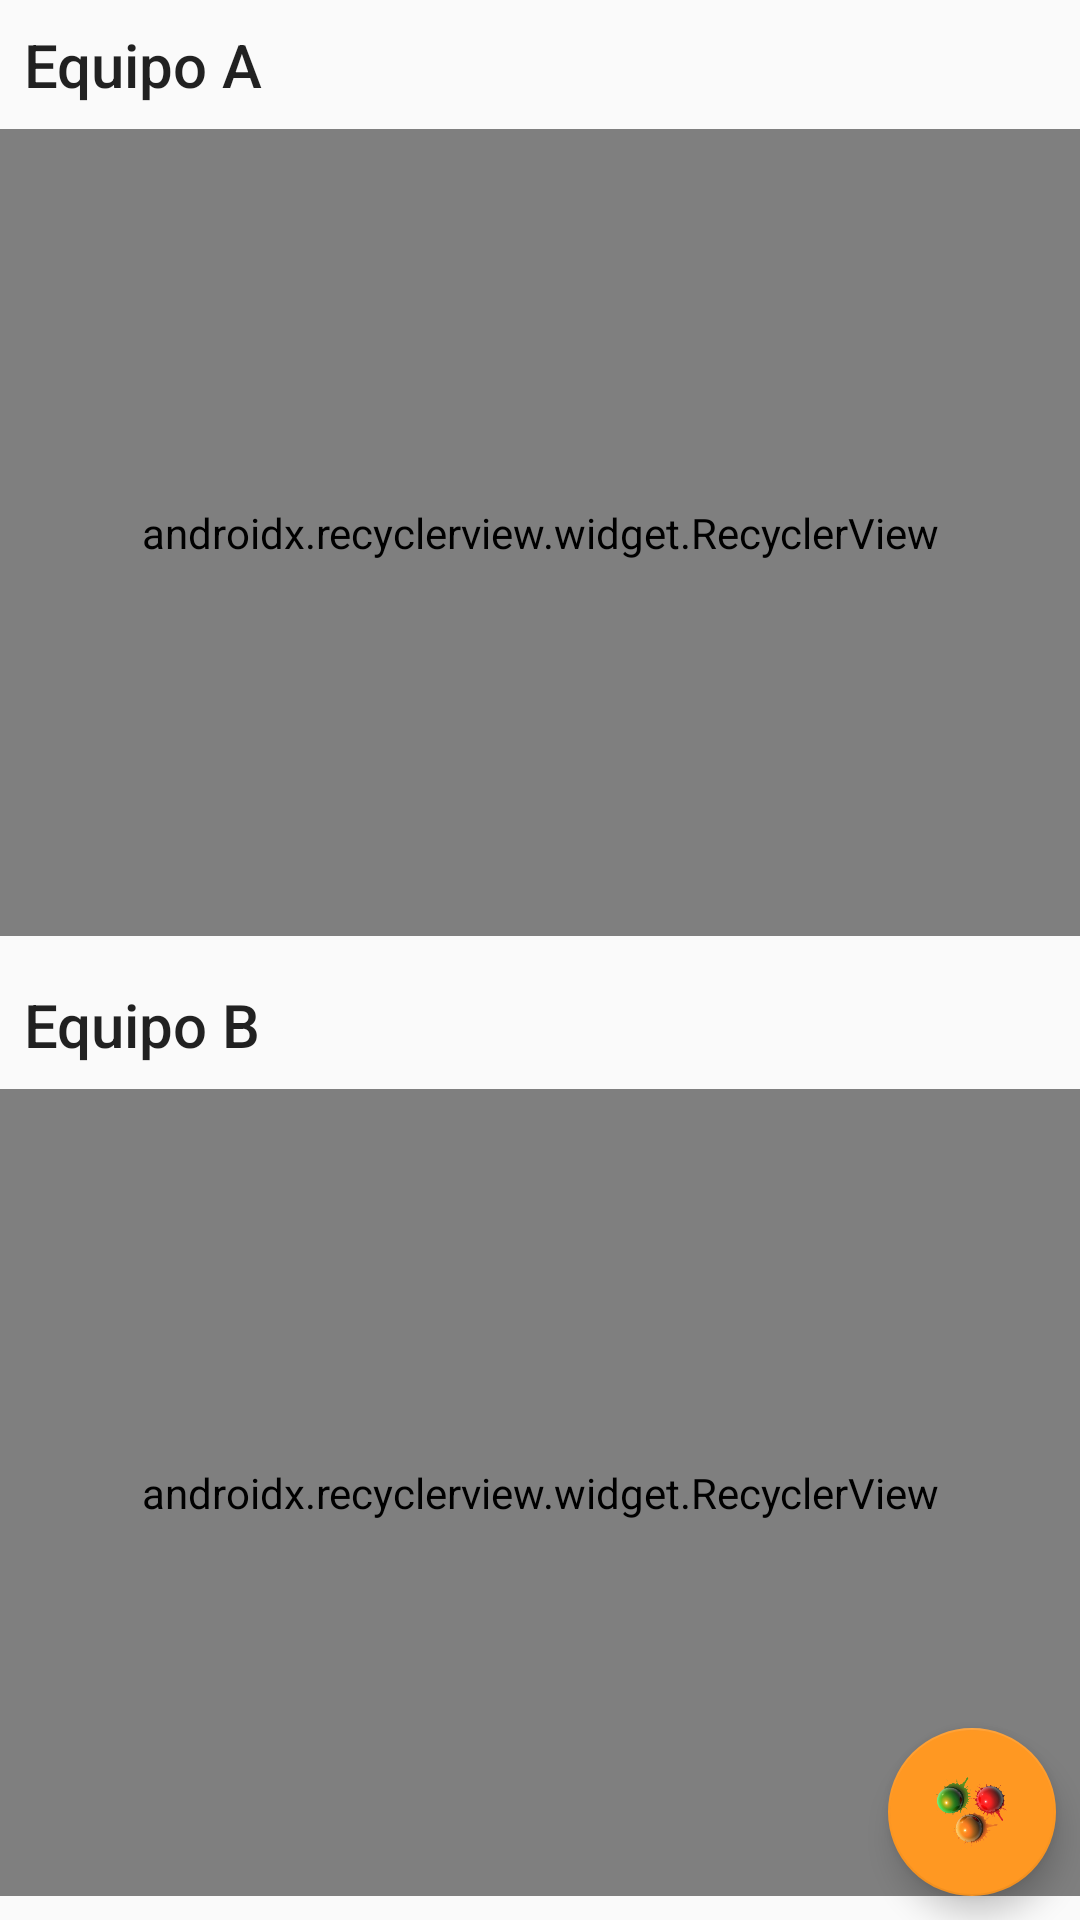

Locate icon controls on the screen. Image size 1080px x 1920px, boxes as [x1, y1, x2, y2].
paintball balls: [888, 1728, 1056, 1896]
